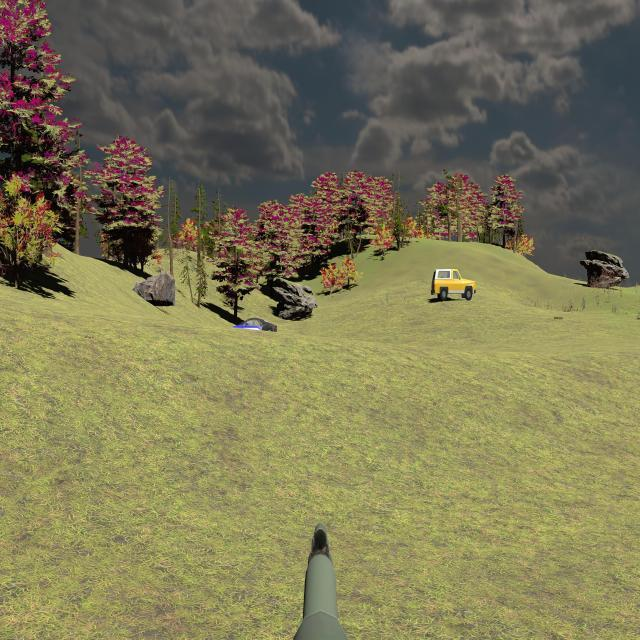car: (432, 267, 477, 302)
